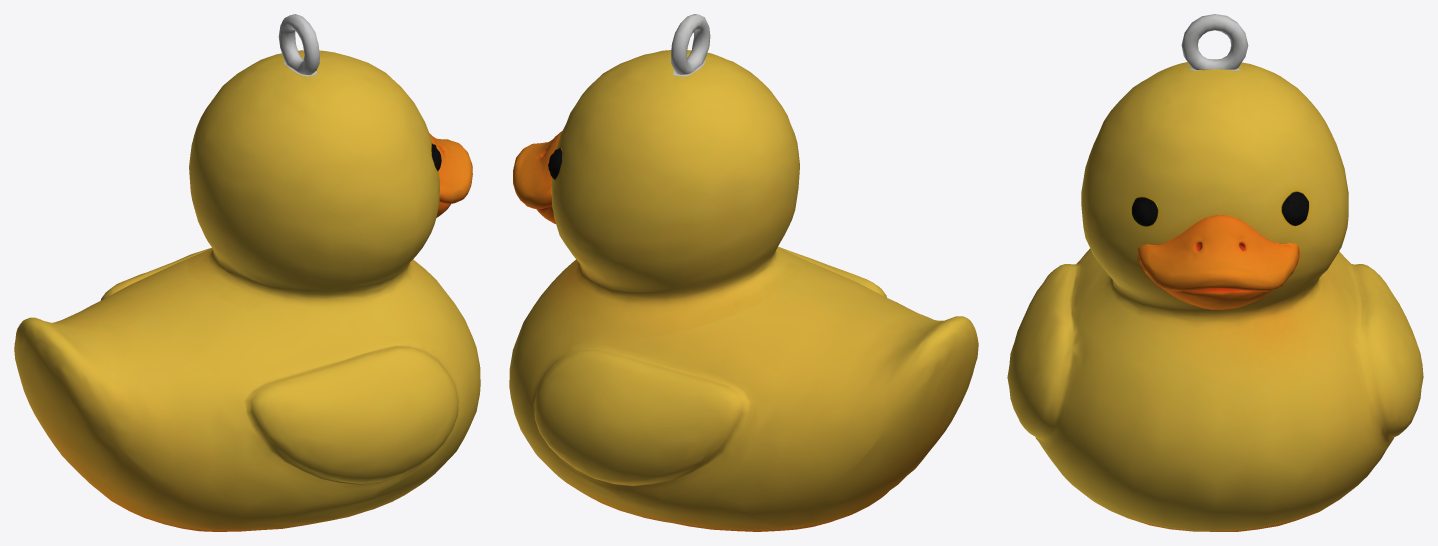
File: duck.glb
3 renders of one model, left to right at view 1: azimuth 30°, elevation 25°; view 2: azimuth 150°, elevation 25°; view 3: azimuth 270°, elevation 25°, orthographic. The views are drawn at different scales.
Visible parts, largest first — view 1: tripo_node_336a3287-0397-49b7-b08f-8893a4064d23; view 2: tripo_node_336a3287-0397-49b7-b08f-8893a4064d23; view 3: tripo_node_336a3287-0397-49b7-b08f-8893a4064d23.
Boxes of the visible parts, bbox=[...] form: tripo_node_336a3287-0397-49b7-b08f-8893a4064d23: bbox=[14, 14, 480, 531]; tripo_node_336a3287-0397-49b7-b08f-8893a4064d23: bbox=[509, 14, 978, 531]; tripo_node_336a3287-0397-49b7-b08f-8893a4064d23: bbox=[1007, 14, 1423, 531].
Bounding box in the file's own units: 0.1512 × 0.15 × 0.1216.
Materials: 1 (1 with a texture image).
